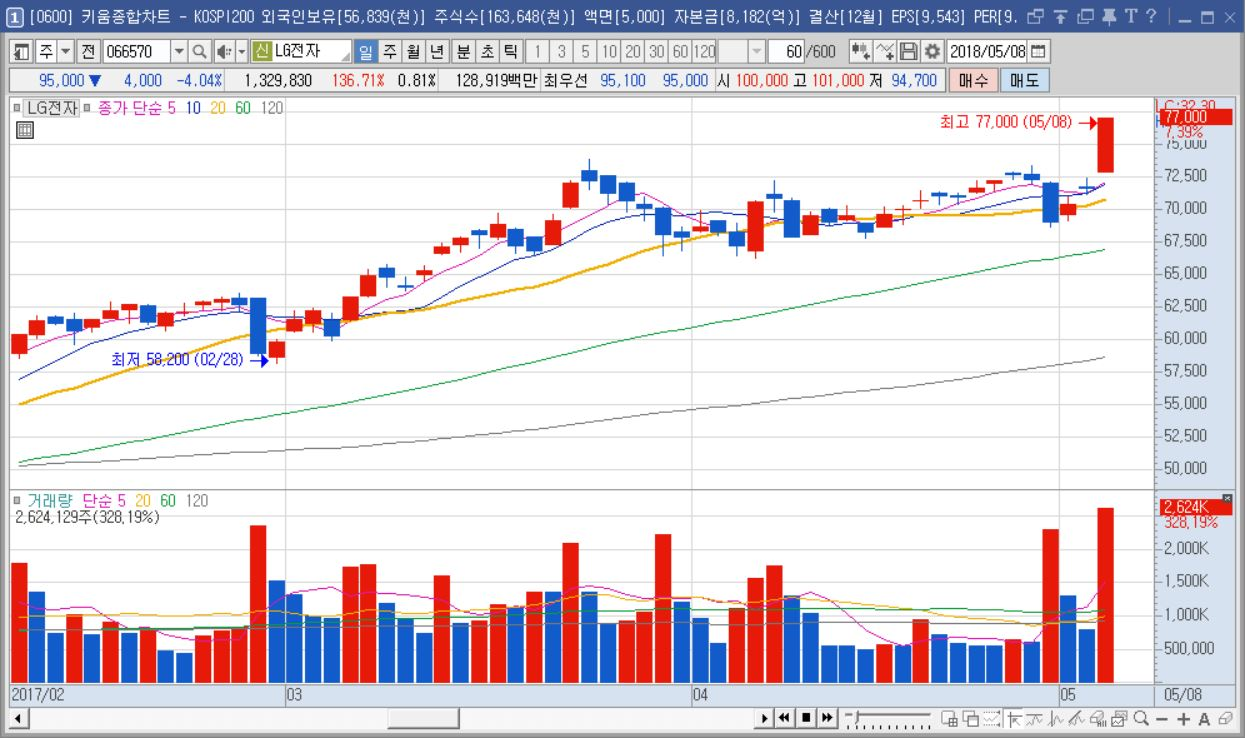up: (268, 108, 1115, 686)
